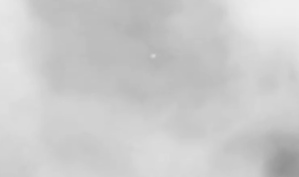Target: (151, 55, 155, 58)
